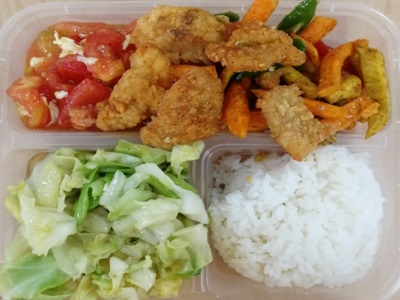cct: (10, 148, 202, 292)
jdxhs: (18, 27, 105, 125)
r5: (132, 15, 373, 136)
rice: (225, 155, 364, 278)
